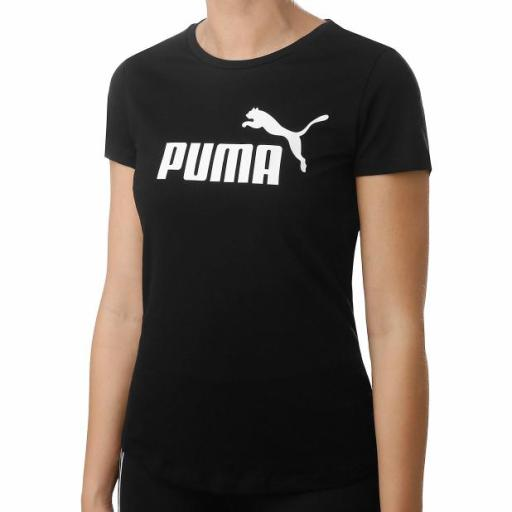Puma: (240, 103, 336, 176)
